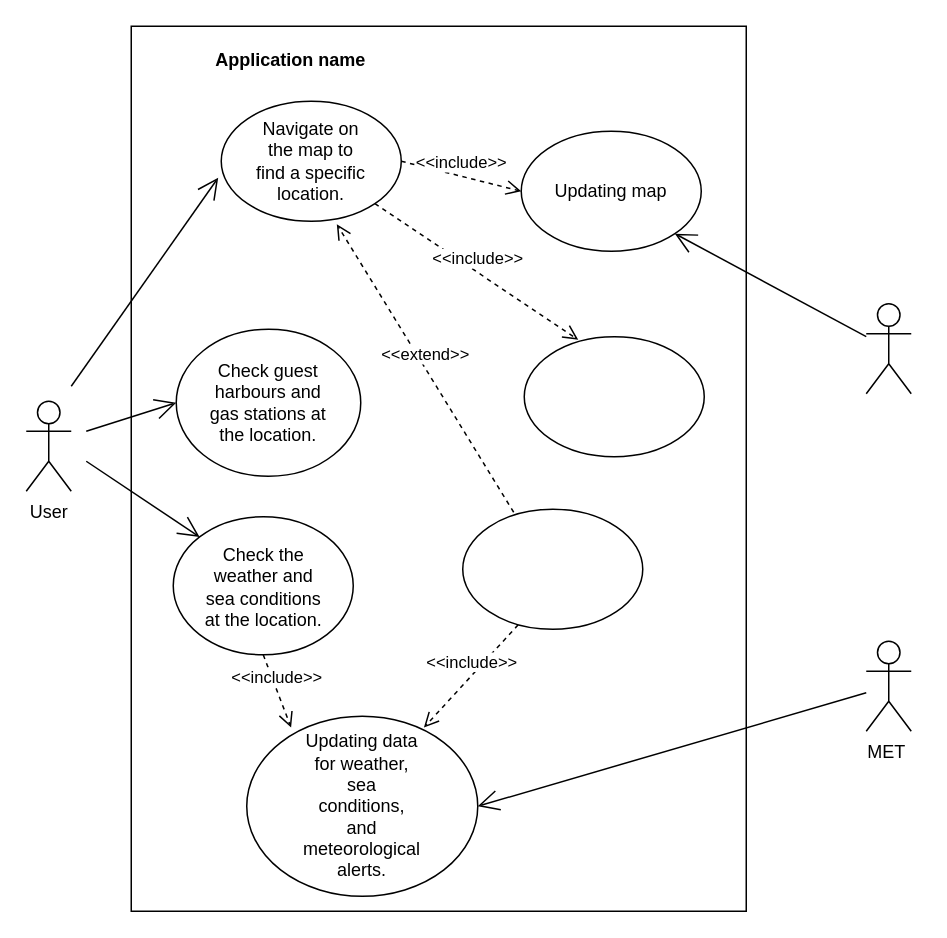
Some shapes in this 947 by 938 pixel diagram are drawn without their labels. Each missing label, with the centre of its shape:
"Check meteorological alerts" goes at (552,568).
"Google" goes at (888,348).
"Updating location for the whole app" goes at (613,396).
